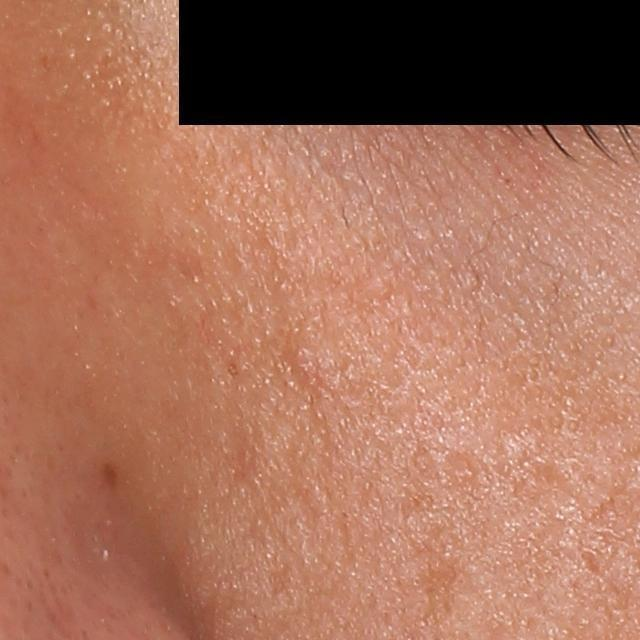atrophic_scar: (411, 561, 466, 630), (580, 549, 608, 581)
nevus: (99, 460, 124, 481)
